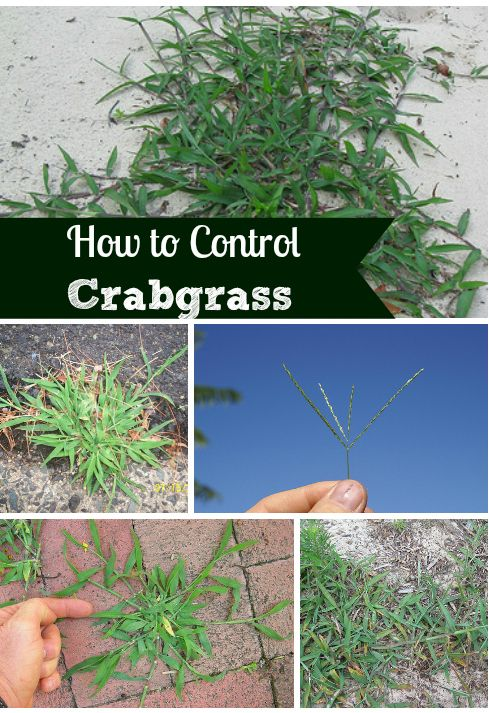crabgrass: (116, 4, 426, 221), (82, 546, 260, 700), (310, 559, 476, 713), (11, 353, 176, 482)
